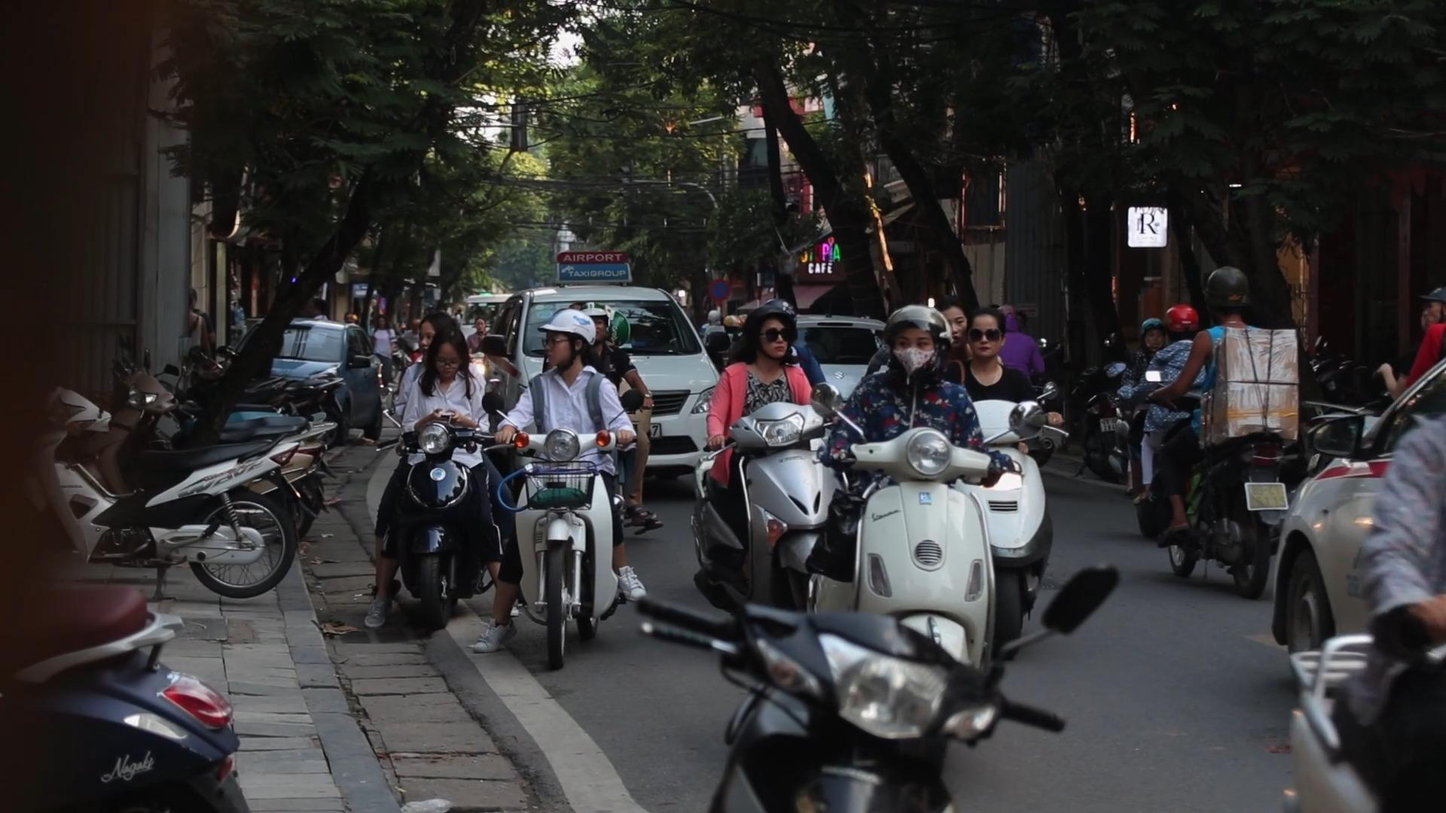driver: (803, 305, 1045, 695), (473, 308, 648, 670), (1145, 266, 1297, 599), (363, 312, 519, 628), (935, 299, 1069, 661), (692, 305, 842, 616)
helmet: (883, 305, 952, 386), (538, 308, 596, 373), (1203, 266, 1251, 326), (743, 305, 792, 360), (1165, 304, 1200, 344), (579, 302, 608, 345), (1140, 318, 1165, 353)
no-helmet: (428, 326, 469, 377), (967, 305, 1007, 357), (419, 312, 455, 361), (935, 300, 967, 349)
